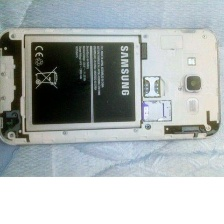phone: (0, 22, 223, 145)
